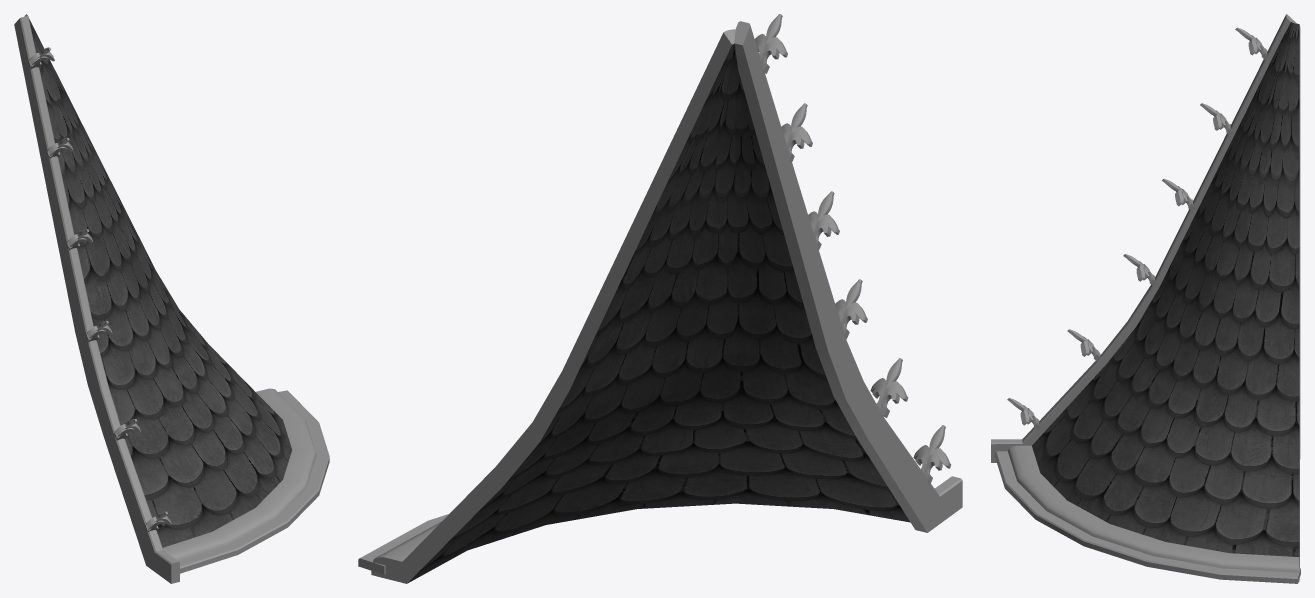
File: SM_RoundRoof_A_003.FBX
The picture shows the model from 3 angles, left to right: view 1: azimuth 30°, elevation 25°; view 2: azimuth 150°, elevation 25°; view 3: azimuth 270°, elevation 25°; orthographic projection. The views are drawn at different scales.
Visible parts, largest first — view 1: SM_RoundRoof_A_003; view 2: SM_RoundRoof_A_003; view 3: SM_RoundRoof_A_003.
Part boxes in pixels (x1=…): SM_RoundRoof_A_003: x1=14, y1=14, x2=329, y2=583; SM_RoundRoof_A_003: x1=358, y1=14, x2=962, y2=583; SM_RoundRoof_A_003: x1=991, y1=14, x2=1300, y2=583.
Size of the model in its own units: 598 by 921 by 581.
2 materials, 1 textured.
